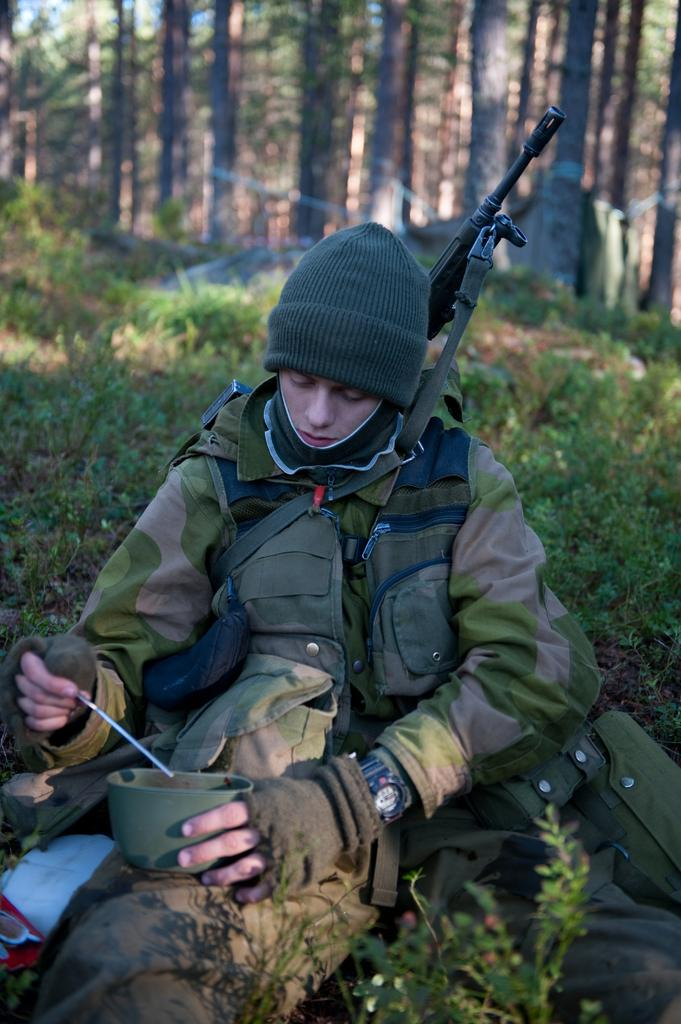Rifle: (327, 113, 570, 479)
